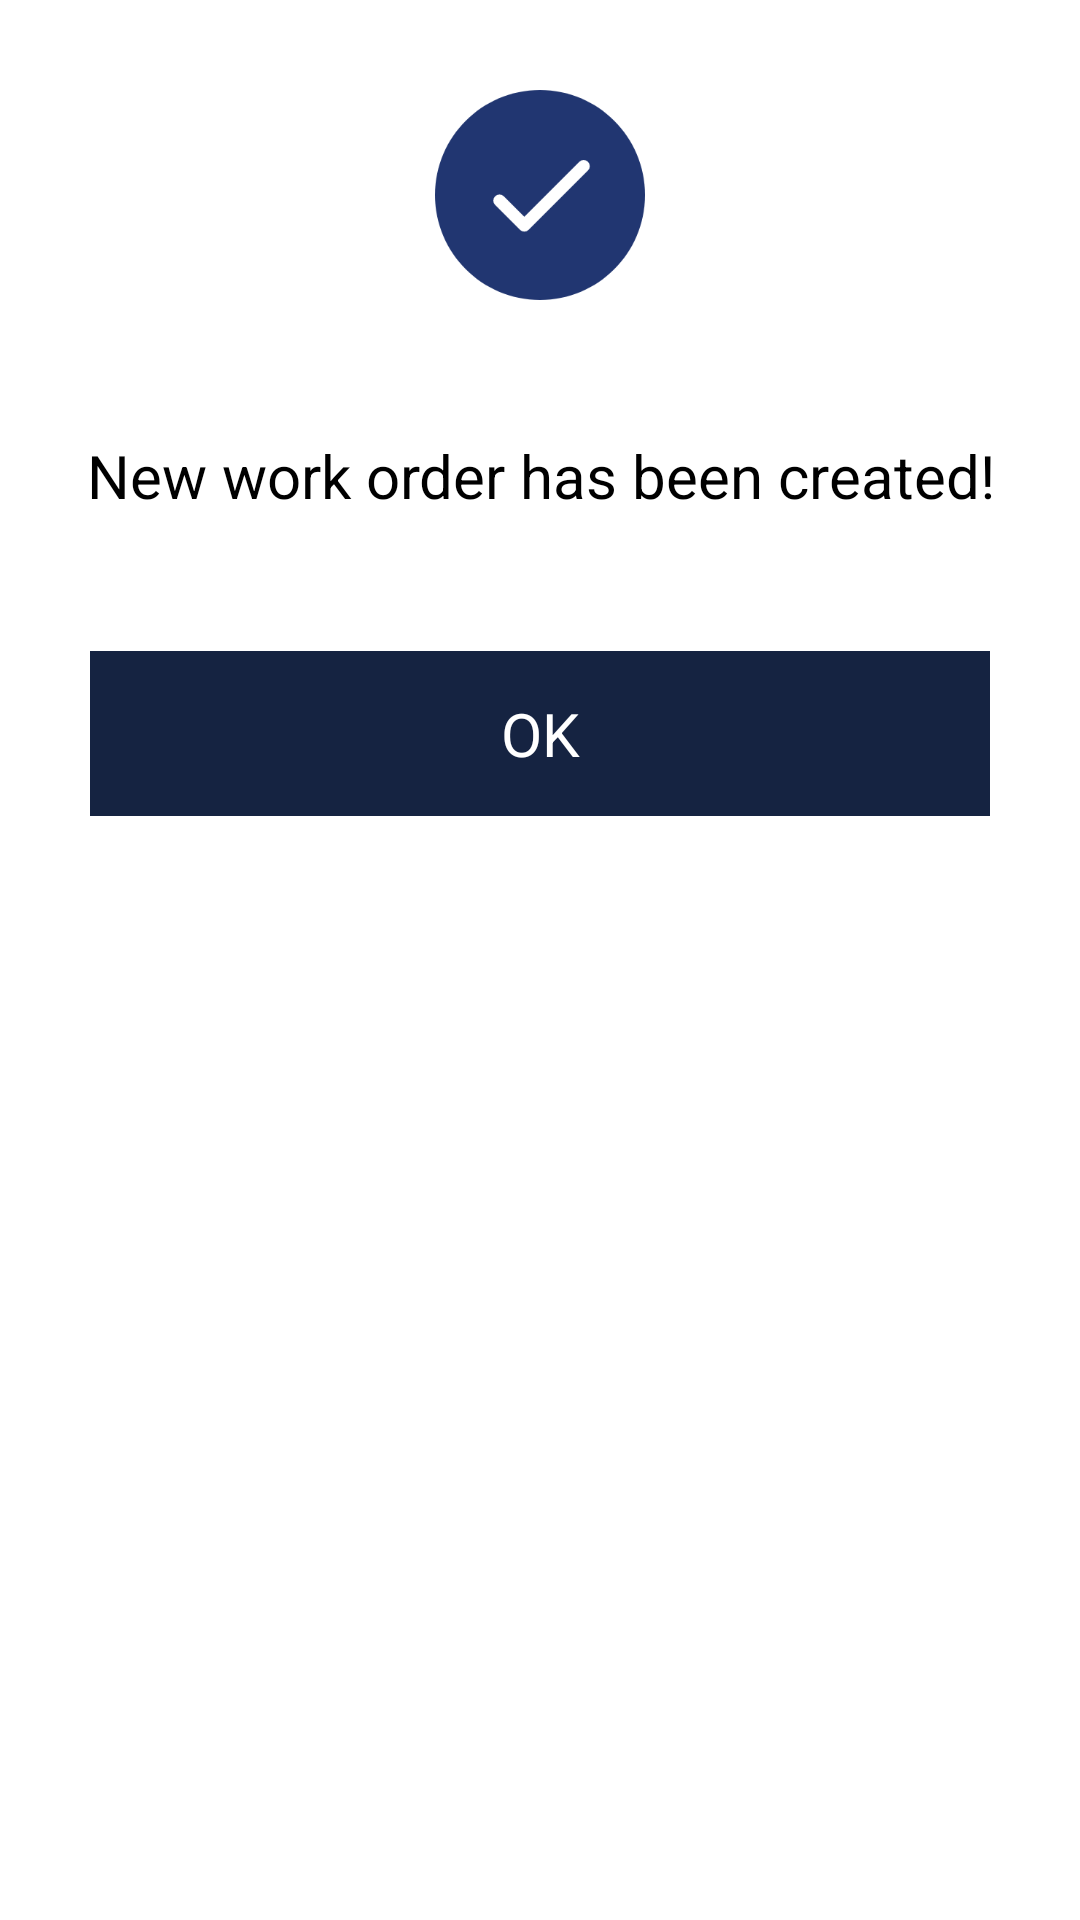

Icon click points for this 1080px×1920px phone screenshot, format (x=x, y=y):
check: (x=540, y=195)
